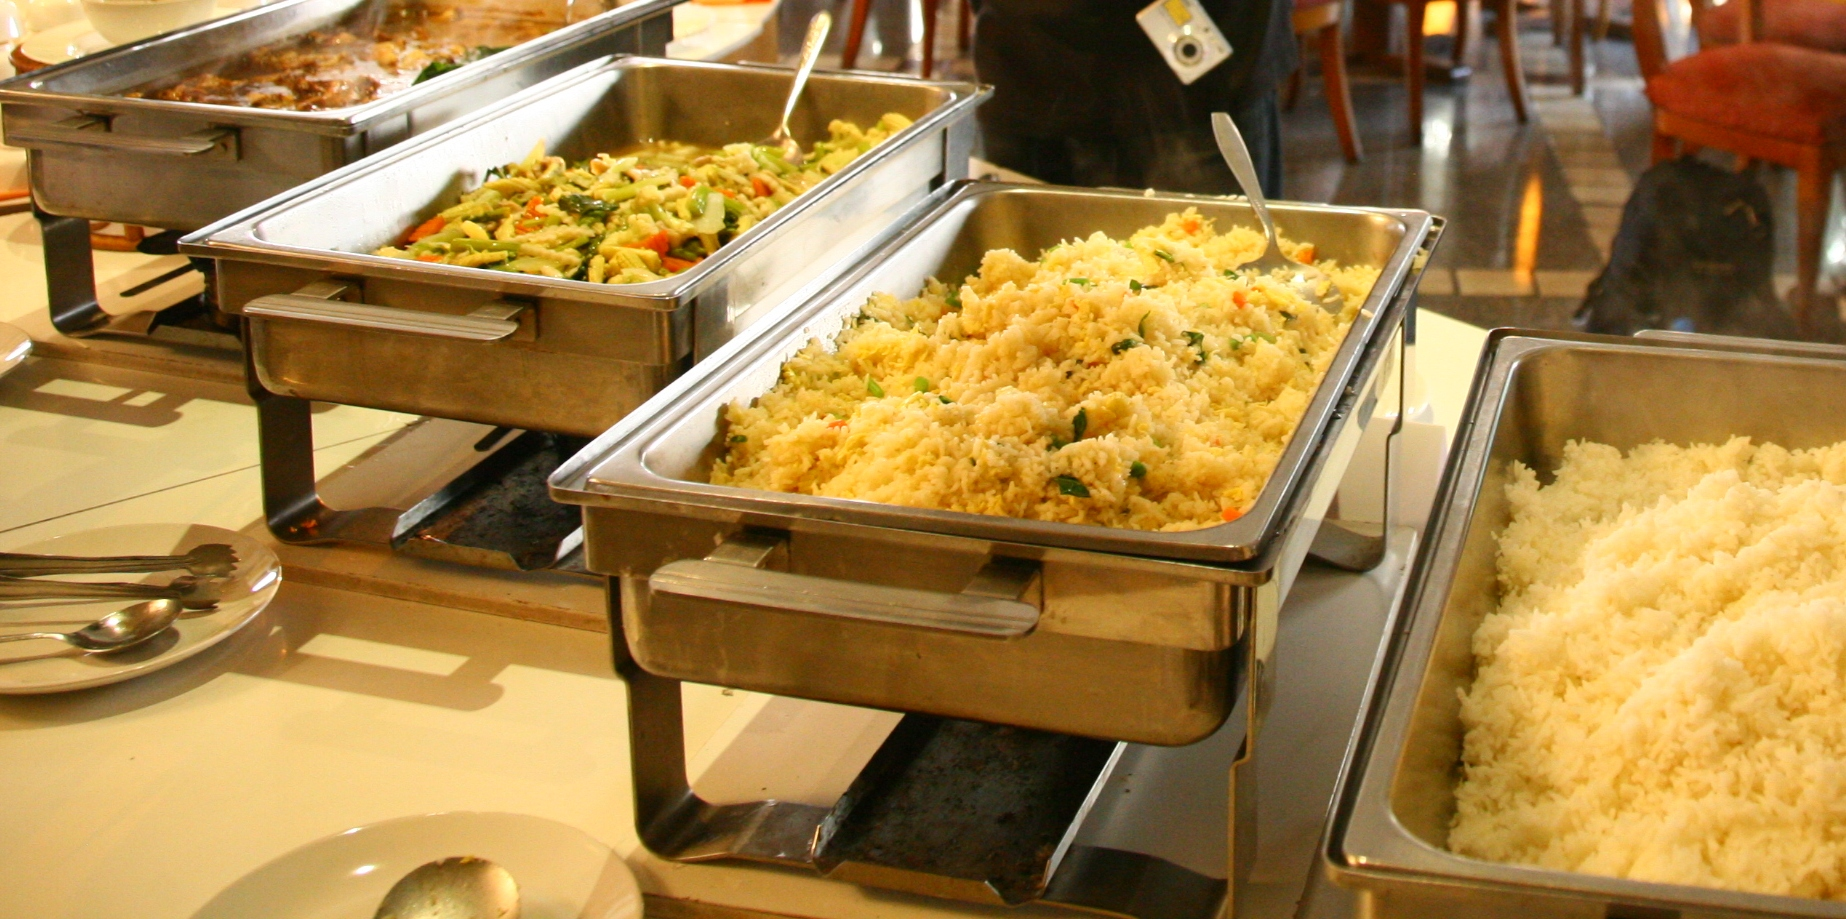plain rice: (1479, 442, 1846, 864), (728, 239, 1332, 485)
